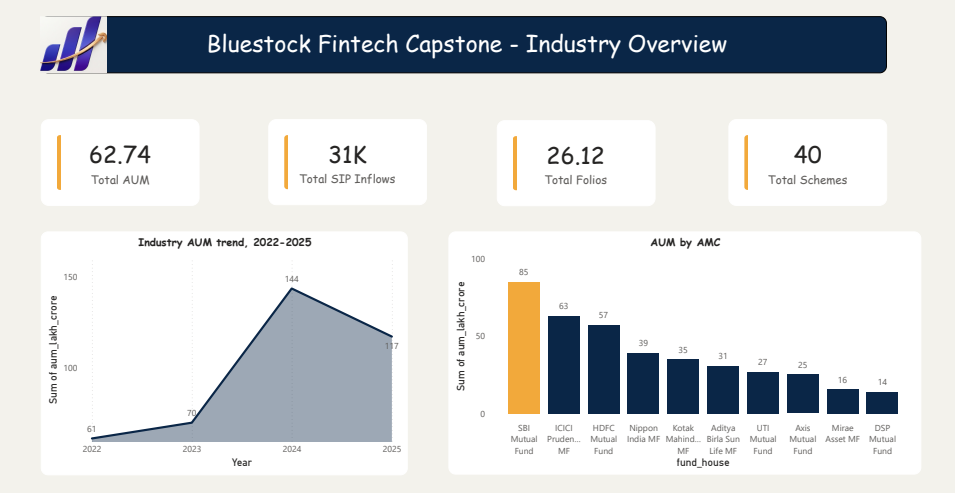

Layout of this report page (visuals, bound fields, positions):
{"tool":"powerbi","page":{"name":"Industry Overview","canvas":[1280,720],"ordinal":0},"visuals":[{"type":"cardVisual","fields":{"Data":["03_aum_by_fund_house.Total AUM"]},"box":[59,168.8,220,120],"z":0},{"type":"cardVisual","fields":{"Data":["06_industry_folio_count.Total Folios"]},"box":[691.6,170.2,219.6,119.4],"z":1},{"type":"cardVisual","fields":{"Data":["06_industry_folio_count.Total SIP Inflows"]},"box":[374.6,168.8,219.6,119.4],"z":2},{"type":"cardVisual","fields":{"Data":["fund_master_clean.Total Schemes"]},"box":[1012.7,168.8,220,120],"z":3},{"type":"lineChart","title":"Industry AUM trend, 2022-2025","fields":{"Category":["03_aum_by_fund_house.date.Variation.Date Hierarchy.Year","03_aum_by_fund_house.date.Variation.Date Hierarchy.Quarter","03_aum_by_fund_house.date.Variation.Date Hierarchy.Month","03_aum_by_fund_house.date.Variation.Date Hierarchy.Day"],"Y":["Sum(03_aum_by_fund_house.aum_lakh_crore)"]},"box":[59,323.8,509.1,337.6],"z":4},{"type":"clusteredColumnChart","title":"AUM by AMC","fields":{"Category":["03_aum_by_fund_house.fund_house"],"Y":["Sum(03_aum_by_fund_house.aum_lakh_crore)"]},"box":[624.3,324.3,655.7,337.1],"z":5},{"type":"textbox","box":[58.6,25.7,1174.3,78.6],"z":6},{"type":"image","box":[48.6,25.7,110,78.6],"z":7}]}

Visuals, with their boxes on the page's 1280x720 design canvas (x1, y1, x2, y2). These are canvas units, not pixel positions in the 955x493 screenshot, which may show the page scaled, cropped or inside an application window:
cardVisual - 03_aum_by_fund_house.Total AUM: region(59, 169, 279, 289)
cardVisual - 06_industry_folio_count.Total Folios: region(692, 170, 911, 290)
cardVisual - 06_industry_folio_count.Total SIP Inflows: region(375, 169, 594, 288)
cardVisual - fund_master_clean.Total Schemes: region(1013, 169, 1233, 289)
"Industry AUM trend, 2022-2025" lineChart: region(59, 324, 568, 661)
"AUM by AMC" clusteredColumnChart: region(624, 324, 1280, 661)
textbox: region(59, 26, 1233, 104)
image: region(49, 26, 159, 104)
